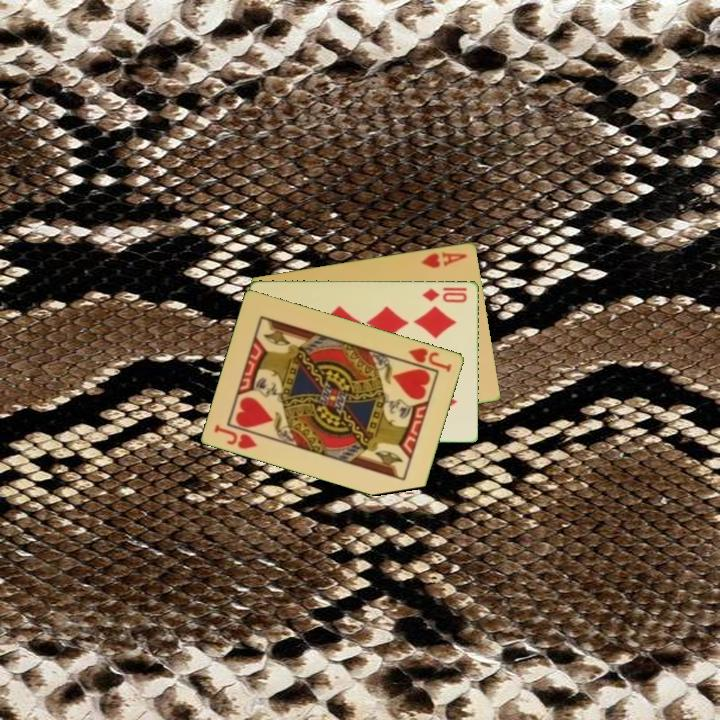10d: (419, 285, 470, 305)
Ah: (418, 248, 470, 271)
Jh: (405, 344, 455, 375), (211, 421, 260, 452)
